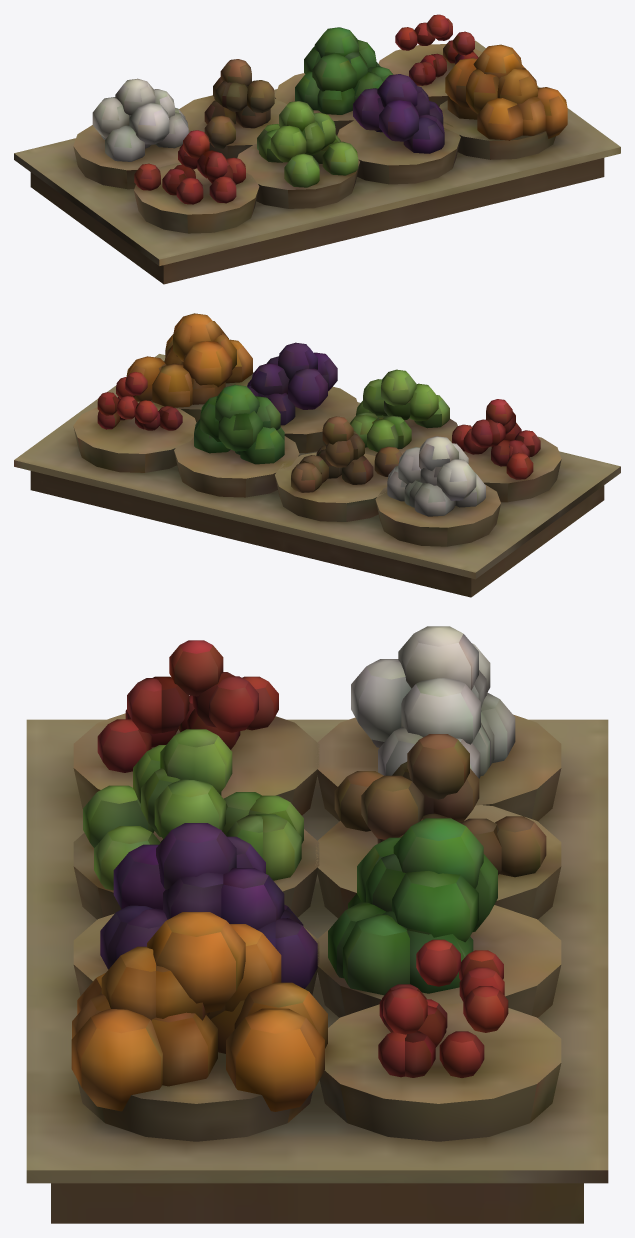
The model's file is veg_stall.glb.
The picture shows the model from 3 angles, top to bottom: view 1: azimuth 30°, elevation 25°; view 2: azimuth 150°, elevation 25°; view 3: azimuth 270°, elevation 25°; orthographic projection. The views are drawn at different scales.
Parts seen in each view (by area): view 1: body; view 2: body; view 3: body.
Part boxes in pixels (<box>): body: <box>14,14,620,284</box>; body: <box>14,313,620,597</box>; body: <box>26,626,608,1223</box>.
Size of the model in its own units: 2.2 by 0.55 by 1.2.
Materials: 1 (1 with a texture image).
